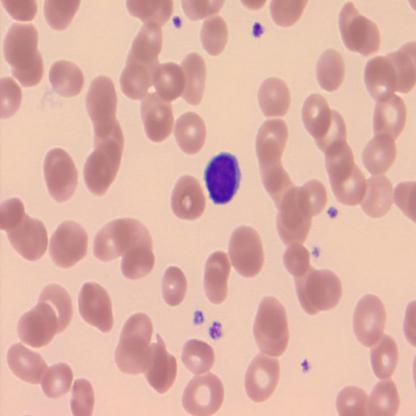Lymphocyte: (204, 150, 242, 204)
